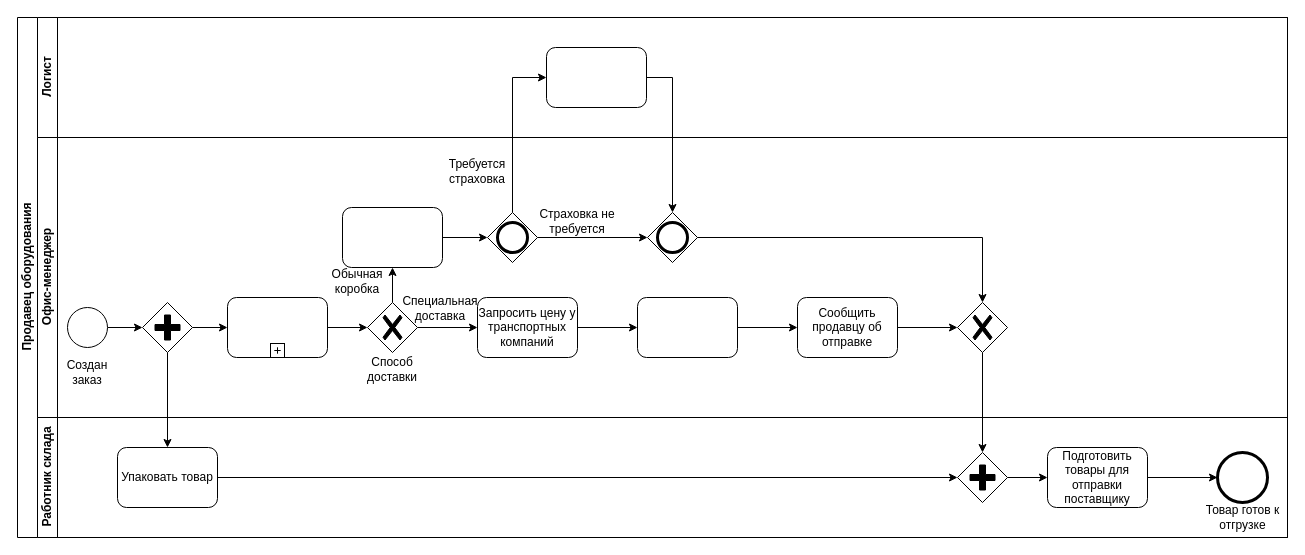
This 1305x555 diagram has some shape labels left out. Here are the shapes that lost their labels. From the top down, the box of each, then its label:
(546, 46, 646, 108): Выбрать страховку
(342, 206, 442, 268): Распечатать этикетку
(226, 296, 328, 358): Определить размер заказа
(636, 296, 738, 358): Выбрать лучшую цену
